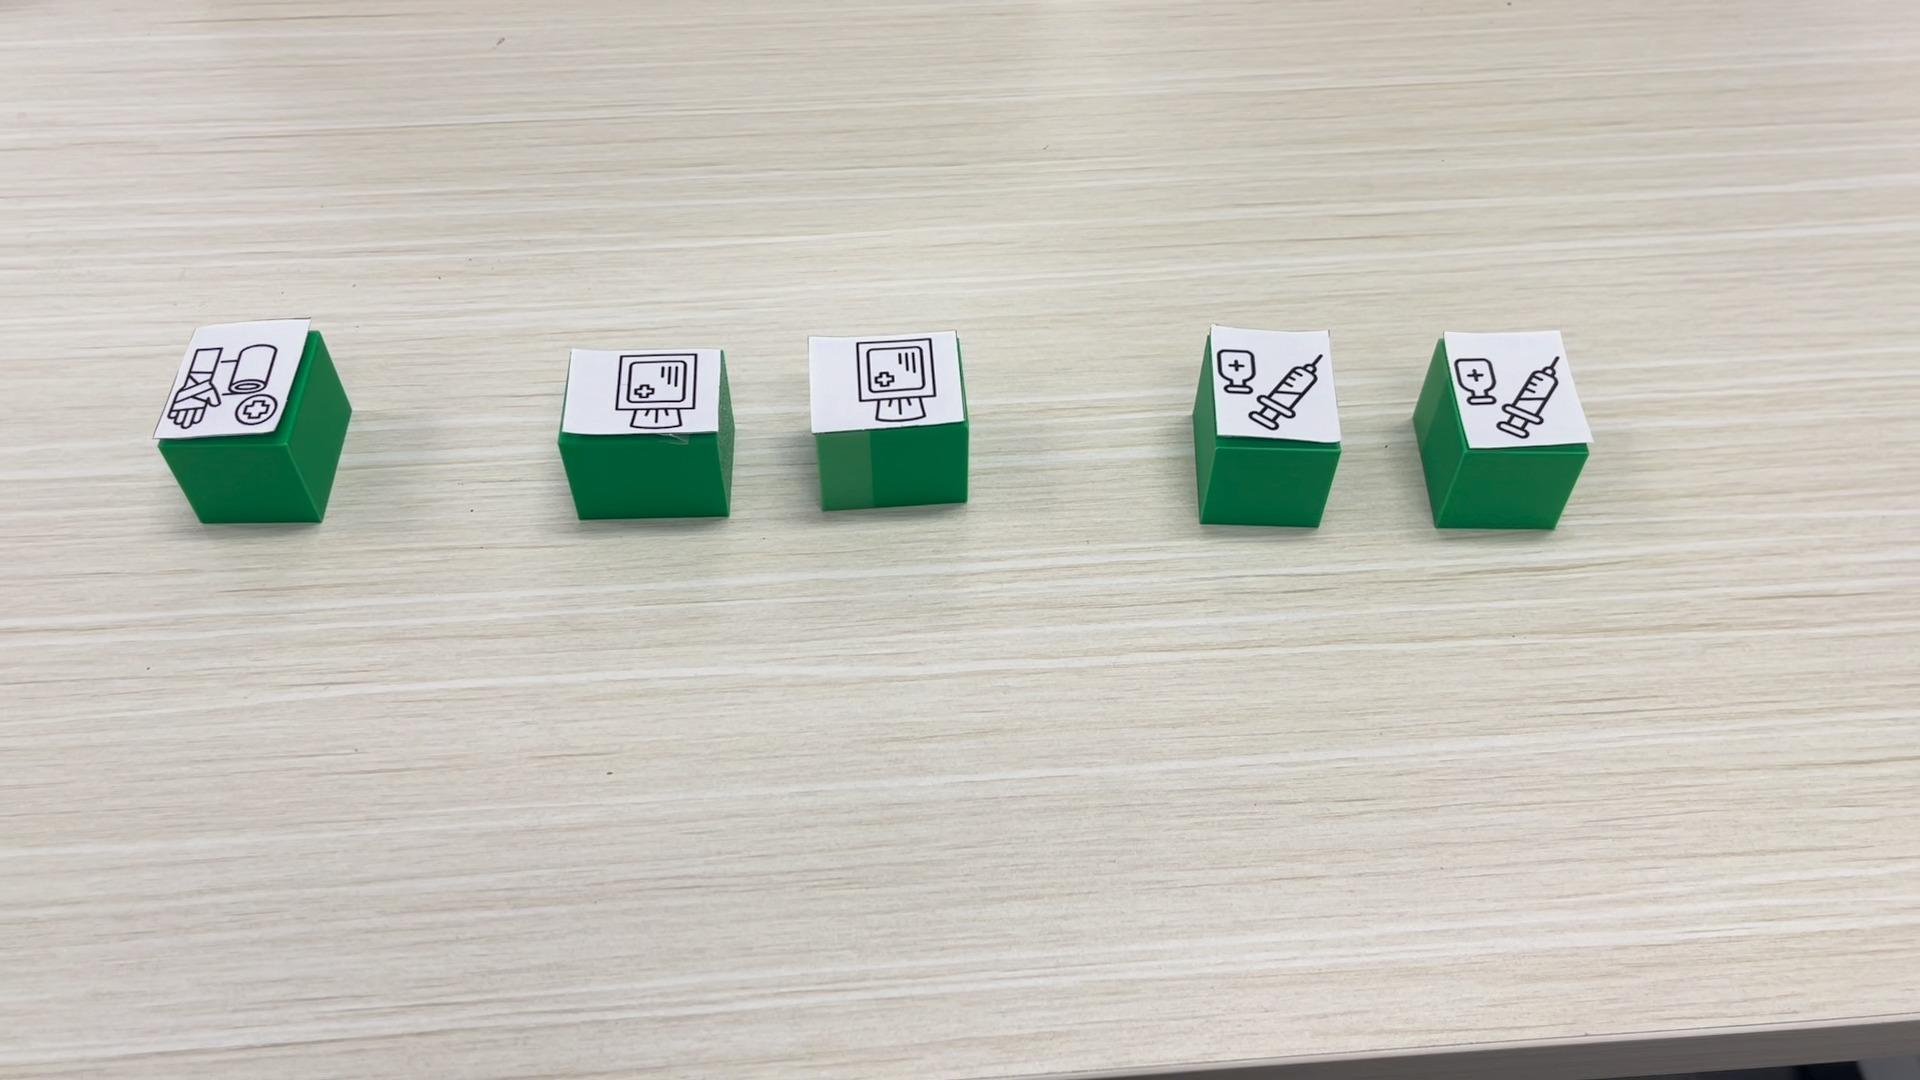Bandages: (154, 316, 349, 524)
Gauze: (558, 344, 733, 520), (807, 328, 971, 512)
antiseptic cream: (1412, 326, 1592, 530), (1189, 323, 1342, 527)
